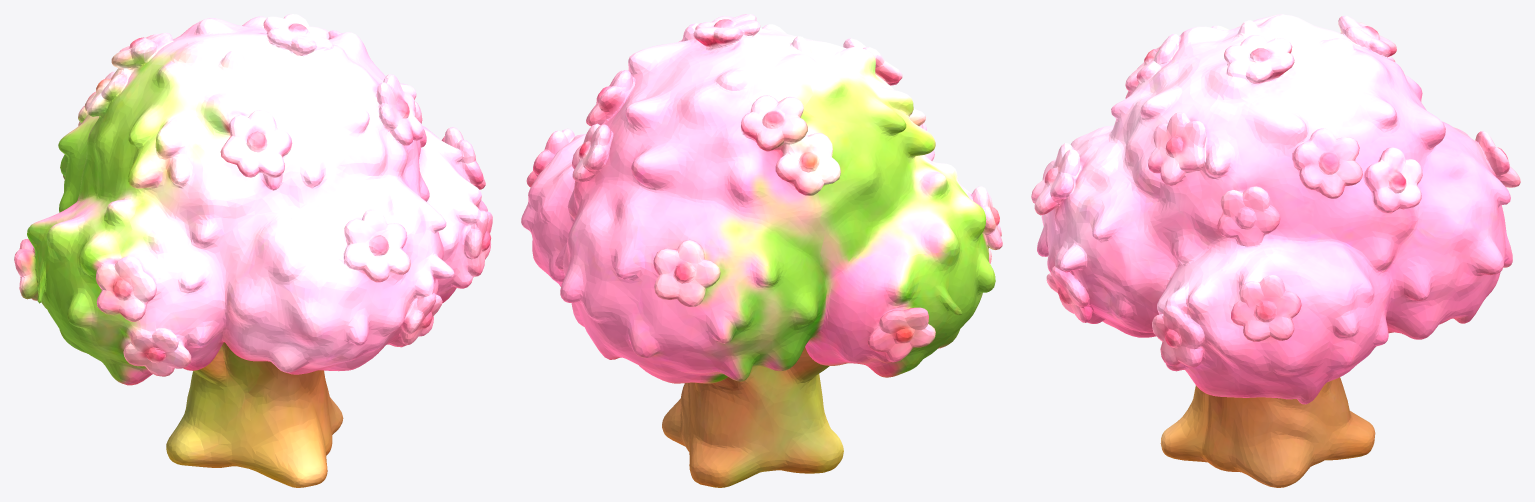
The model's file is tree_blossom.glb.
The picture shows the model from 3 angles, left to right: view 1: azimuth 30°, elevation 25°; view 2: azimuth 150°, elevation 25°; view 3: azimuth 270°, elevation 25°; orthographic projection.
Visible parts, largest first — view 1: tripo_mesh_cafcc838-6b7c-45ab-82f7-036f70288962; view 2: tripo_mesh_cafcc838-6b7c-45ab-82f7-036f70288962; view 3: tripo_mesh_cafcc838-6b7c-45ab-82f7-036f70288962.
Boxes of the visible parts, bbox=[...] form: tripo_mesh_cafcc838-6b7c-45ab-82f7-036f70288962: bbox=[14, 14, 492, 487]; tripo_mesh_cafcc838-6b7c-45ab-82f7-036f70288962: bbox=[521, 14, 1002, 487]; tripo_mesh_cafcc838-6b7c-45ab-82f7-036f70288962: bbox=[1031, 14, 1520, 487].
Size of the model in its own units: 1.06 by 1 by 1.04.
1 material, 1 textured.
